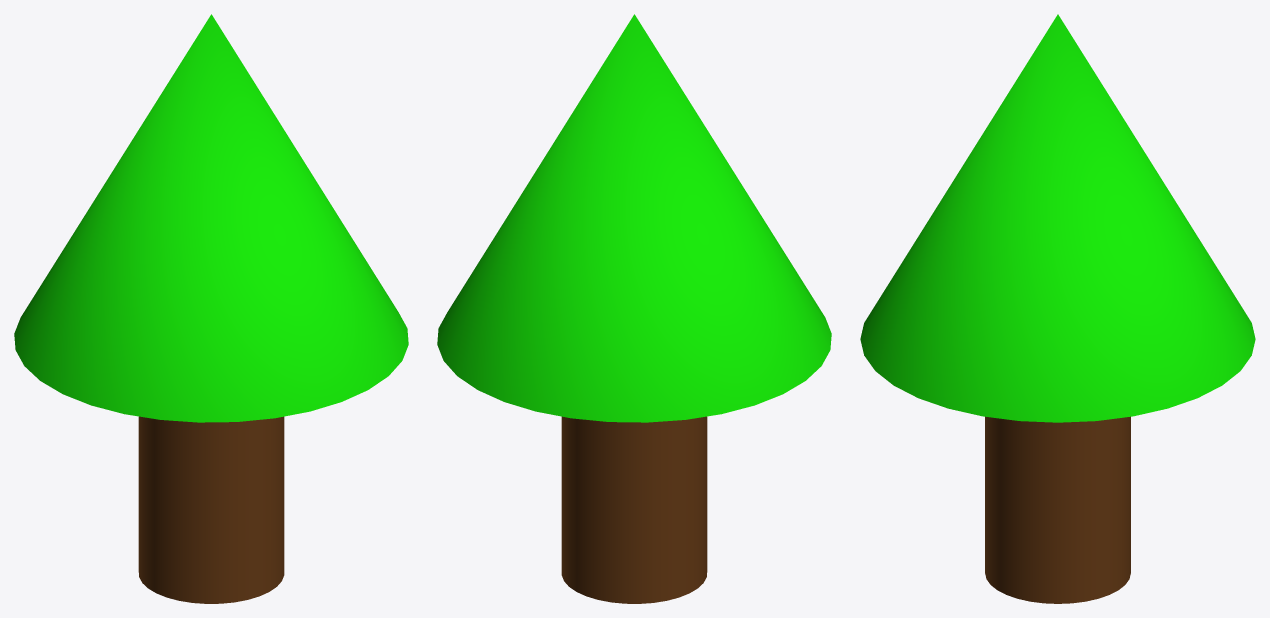
Rendered from tree2.fbx.
3 renders of one model, left to right at view 1: azimuth 30°, elevation 25°; view 2: azimuth 150°, elevation 25°; view 3: azimuth 270°, elevation 25°, orthographic.
Parts seen in each view (by area): view 1: Cone, Cylinder; view 2: Cone, Cylinder; view 3: Cone, Cylinder.
Boxes of the visible parts, left/top/right/bottom form: Cone: left=14, top=14, right=408, bottom=422; Cylinder: left=138, top=416, right=284, bottom=603; Cone: left=437, top=14, right=831, bottom=422; Cylinder: left=561, top=416, right=707, bottom=603; Cone: left=860, top=14, right=1255, bottom=422; Cylinder: left=985, top=416, right=1130, bottom=603.
Size of the model in its own units: 542 by 846 by 542.
